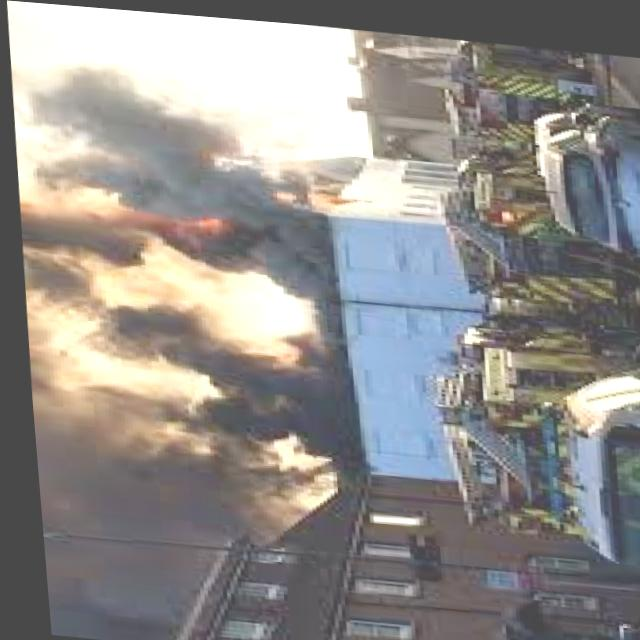no_helmet: (14, 49, 338, 317), (23, 364, 297, 640), (85, 274, 362, 502)
